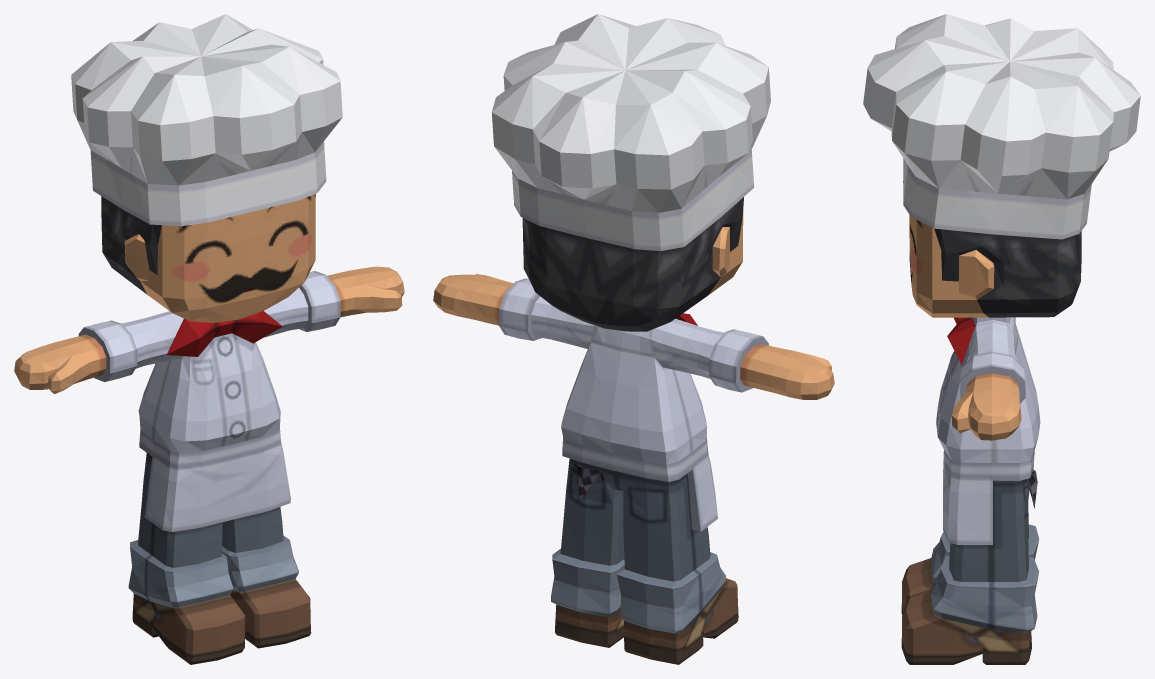
Rendered from Gino.dae.
3 views of the same model, side by side, from view 1: azimuth 30°, elevation 25°; view 2: azimuth 150°, elevation 25°; view 3: azimuth 270°, elevation 25° (orthographic). The views are drawn at different scales.
Parts seen in each view (by area): view 1: Object001_001, Object003_001, Object002_001; view 2: Object003_001, Object001_001, Object002_001; view 3: Object003_001, Object001_001, Object002_001.
Boxes of the visible parts, <box> form: Object001_001: <box>14,266,404,664</box>; Object003_001: <box>71,14,342,294</box>; Object002_001: <box>124,194,315,322</box>; Object003_001: <box>491,14,770,331</box>; Object001_001: <box>433,274,834,664</box>; Object002_001: <box>708,211,743,295</box>; Object003_001: <box>863,14,1140,317</box>; Object001_001: <box>901,317,1040,664</box>; Object002_001: <box>909,215,994,317</box>.
Size of the model in its own units: 4.22 by 2.58 by 6.11.
Materials: 3 (3 with a texture image).
